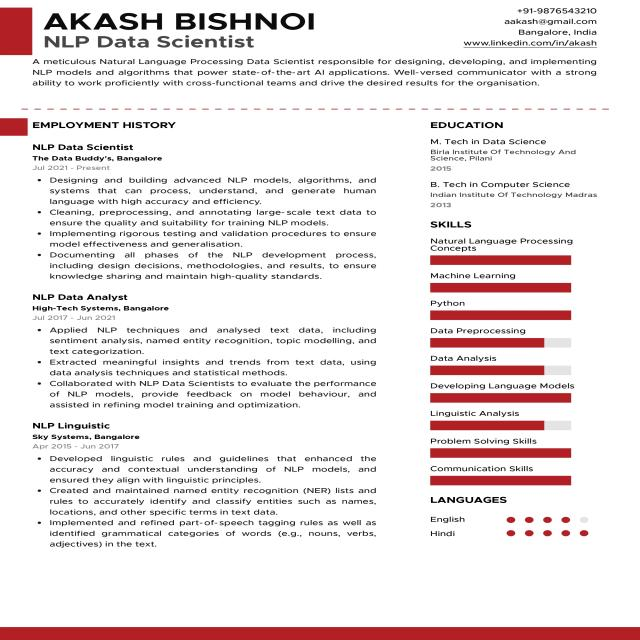contact: (450, 4, 607, 56)
education: (423, 121, 611, 216)
experience: (34, 120, 412, 580)
header: (42, 6, 346, 50)
languages: (426, 493, 603, 566)
skills: (423, 218, 604, 493)
summary: (31, 58, 604, 104)
